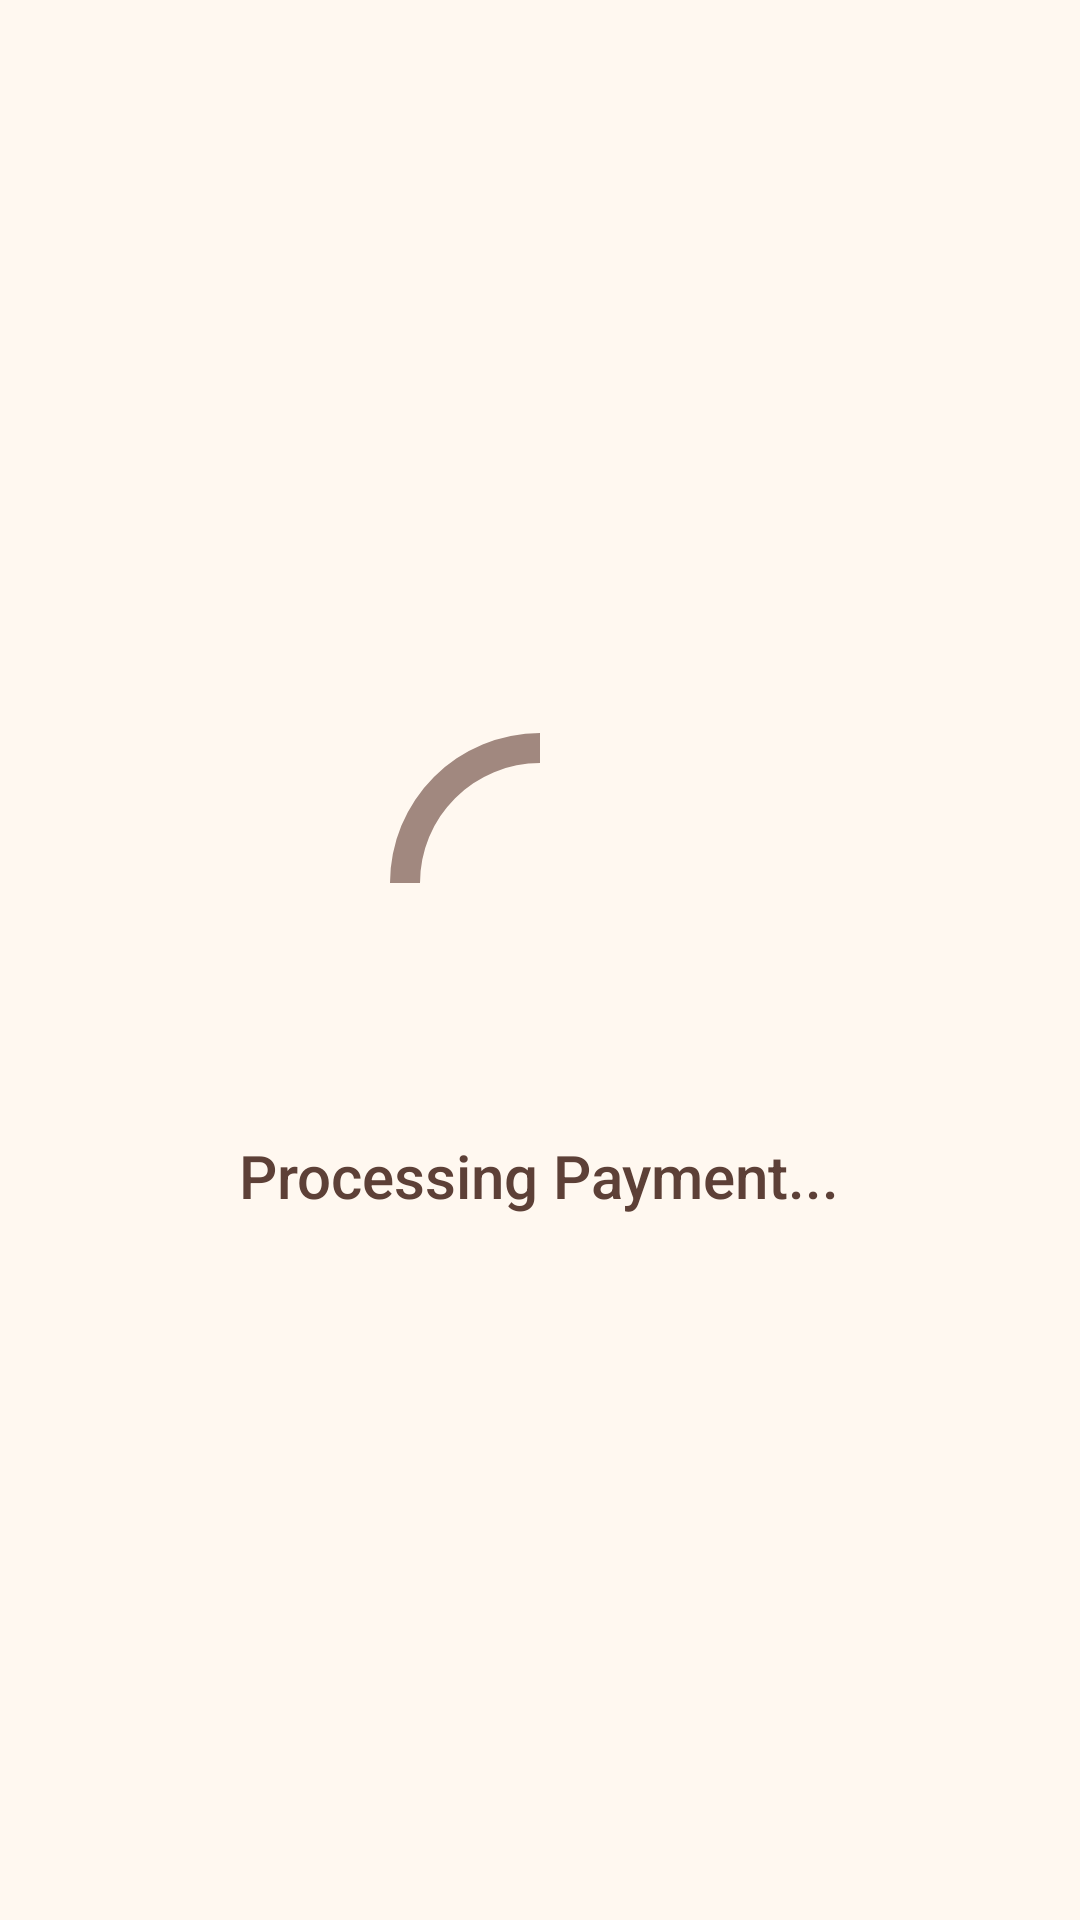

Icons on this 1080x1920 Android screen, each with the point to tap as [x,y]:
payment loading: [465,808]
